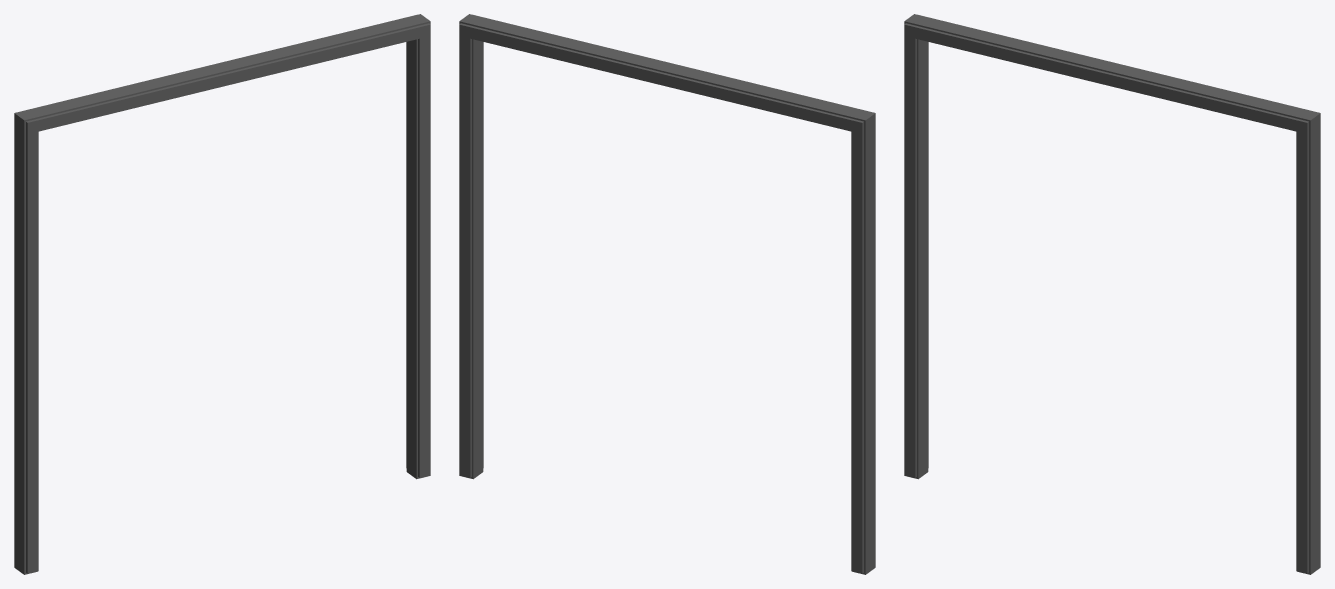
The model's file is Doorframe_Double_8_doorway_double_8.obj.
3 renders of one model, left to right at view 1: azimuth 30°, elevation 25°; view 2: azimuth 150°, elevation 25°; view 3: azimuth 330°, elevation 25°, orthographic.
Size of the model in its own units: 1.96 by 2.1 by 0.1126.
